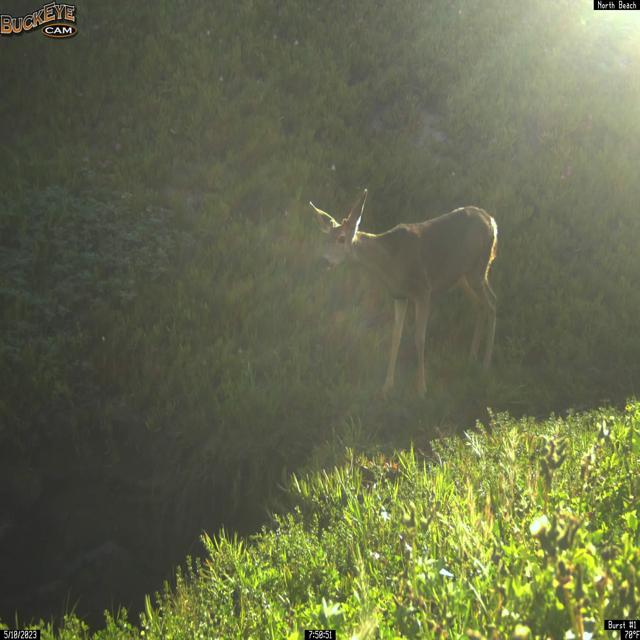deer: (308, 188, 499, 400)
